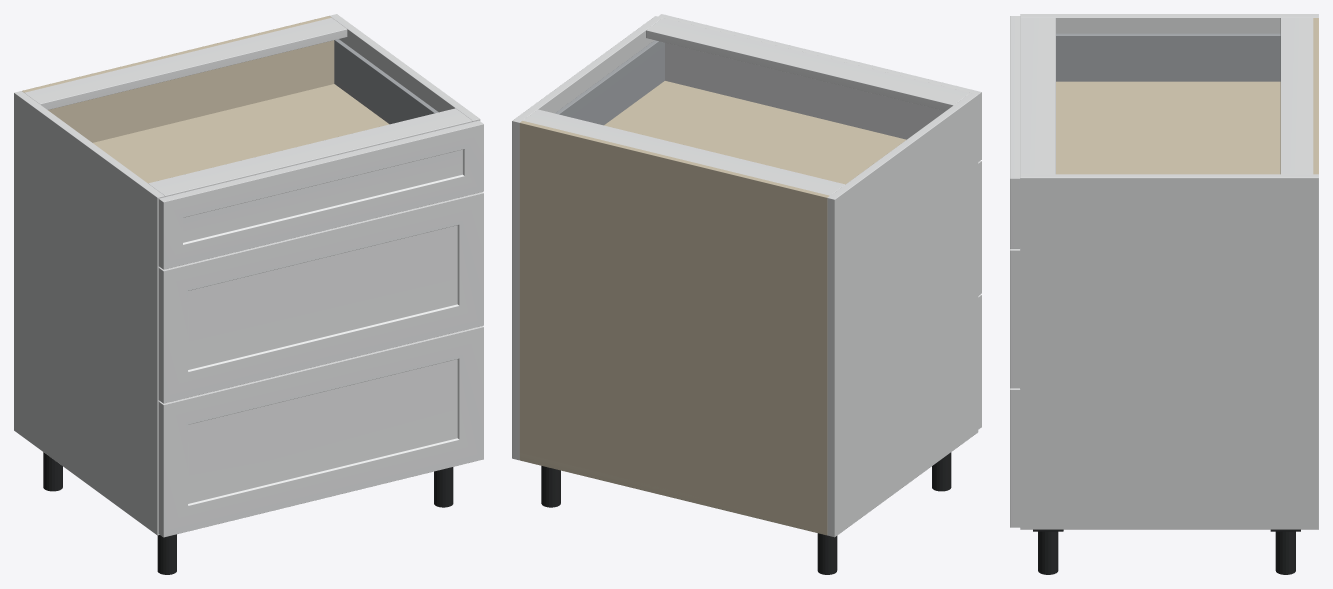
Rendered from PLY-WSS-3DB30.glb.
3 views of the same model, side by side, from view 1: azimuth 30°, elevation 25°; view 2: azimuth 150°, elevation 25°; view 3: azimuth 270°, elevation 25° (orthographic). The views are drawn at different scales.
Visible parts, largest first — view 1: Carcass left, Drawer front, Drawer front.001, Drawer front.002, Drawer bottom.002, Drawer back.002, Top support rail, Top support rail.001, Metal drawer side.005, Carcass right, Carcass back, Adjustable foot.001 (+2 smaller); view 2: Carcass back, Carcass left, Drawer bottom.002, Drawer front.002, Top support rail.001, Carcass right, Top support rail, Metal drawer side.005, Carcass bottom, Adjustable foot, Adjustable foot.002, Adjustable foot.001; view 3: Carcass right, Drawer bottom.002, Metal drawer side.004, Top support rail.001, Top support rail, Carcass left, Drawer front.002, Drawer front, Drawer front.001, Carcass back, Adjustable foot.003, Adjustable foot.002.
Boxes of the visible parts, x1,y1,x2,y2 form: Carcass left: (14,91,164,535); Drawer front: (158,326,483,537); Drawer front.001: (158,192,483,403); Drawer front.002: (158,120,483,269); Drawer bottom.002: (93,84,389,183); Drawer back.002: (48,40,334,142); Top support rail: (24,17,347,109); Top support rail.001: (148,108,472,196); Metal drawer side.005: (334,39,438,124); Carcass right: (329,14,480,121); Carcass back: (22,16,331,92); Adjustable foot.001: (157,534,176,574); Carcass back: (519,120,829,535); Carcass left: (827,93,978,537); Drawer bottom.002: (604,81,906,184); Drawer front.002: (658,14,981,161); Top support rail.001: (646,18,969,110); Carcass right: (512,16,662,460); Top support rail: (523,109,844,195); Metal drawer side.005: (555,40,664,125); Carcass bottom: (520,453,826,534); Adjustable foot: (817,533,837,574); Adjustable foot.002: (541,466,560,507); Adjustable foot.001: (932,452,951,491); Carcass right: (1020,174,1318,529); Drawer bottom.002: (1056,81,1280,174); Metal drawer side.004: (1056,33,1280,81); Top support rail.001: (1020,18,1055,174); Top support rail: (1280,18,1313,174); Carcass left: (1020,14,1318,33); Drawer front.002: (1010,16,1020,248); Drawer front: (1010,388,1020,527); Drawer front.001: (1010,249,1020,388); Carcass back: (1313,18,1318,174); Adjustable foot.003: (1038,531,1058,574); Adjustable foot.002: (1275,531,1295,574).
Bounding box in the file's own units: 0.762 × 0.8763 × 0.6064.
